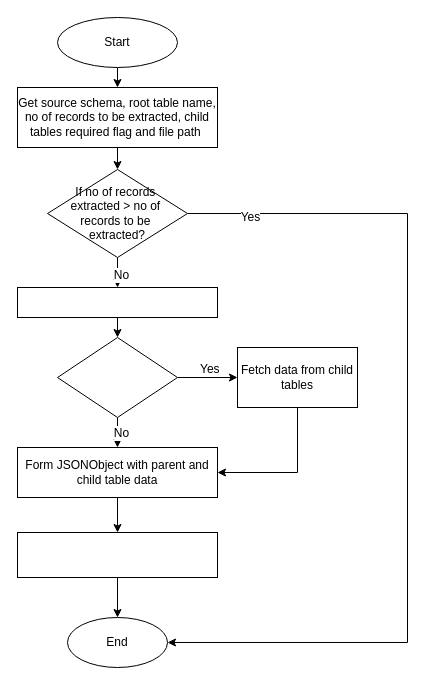
Some shapes in this 433 by 685 pixel diagram are drawn without their labels. The shapes that lost their labels are listed below. From the top down, each one's centre as x and y in pixels, then its label:
the point at 117,302: Fetch data from parent tables
the point at 117,377: If child tables need to be extracted?
the point at 117,555: Write into JSON Object into JSON file
